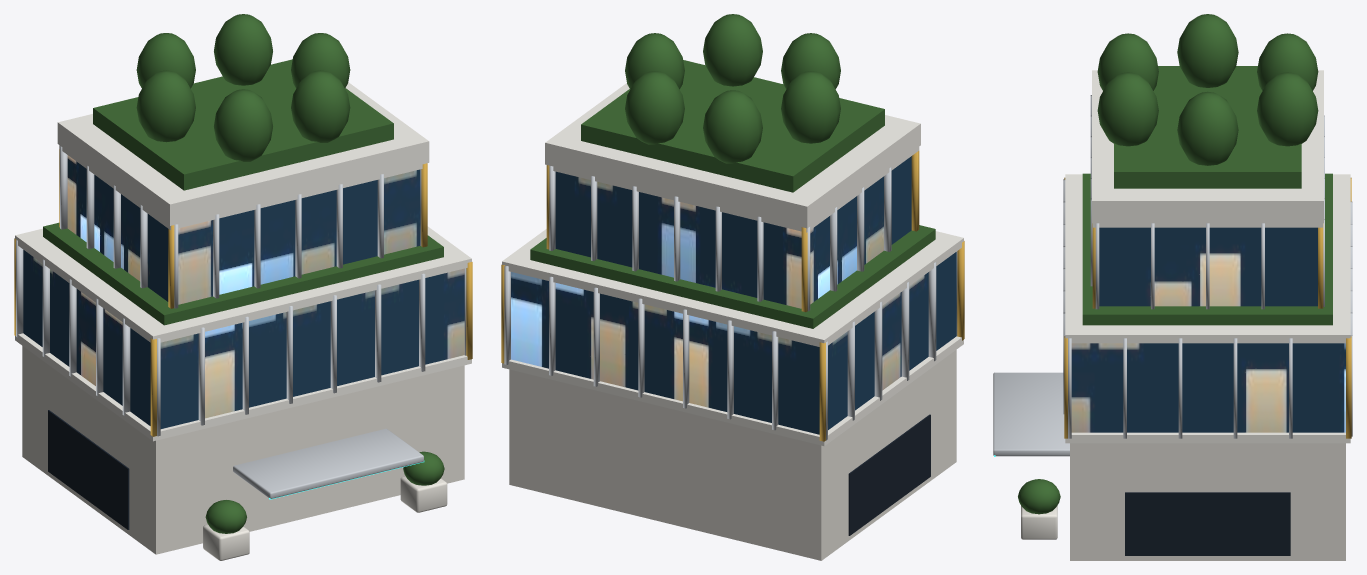
File: nexus-terrace-a.glb
3 views of the same model, side by side, from view 1: azimuth 30°, elevation 25°; view 2: azimuth 150°, elevation 25°; view 3: azimuth 270°, elevation 25° (orthographic). The views are drawn at different scales.
Visible parts, largest first — view 1: Building; view 2: Building; view 3: Building.
Boxes of the visible parts, x1,y1,x2,y2 form: Building: [14, 14, 472, 560]; Building: [501, 14, 964, 560]; Building: [993, 14, 1352, 560].
Size of the model in its own units: 12.44 by 15.4 by 11.72.
